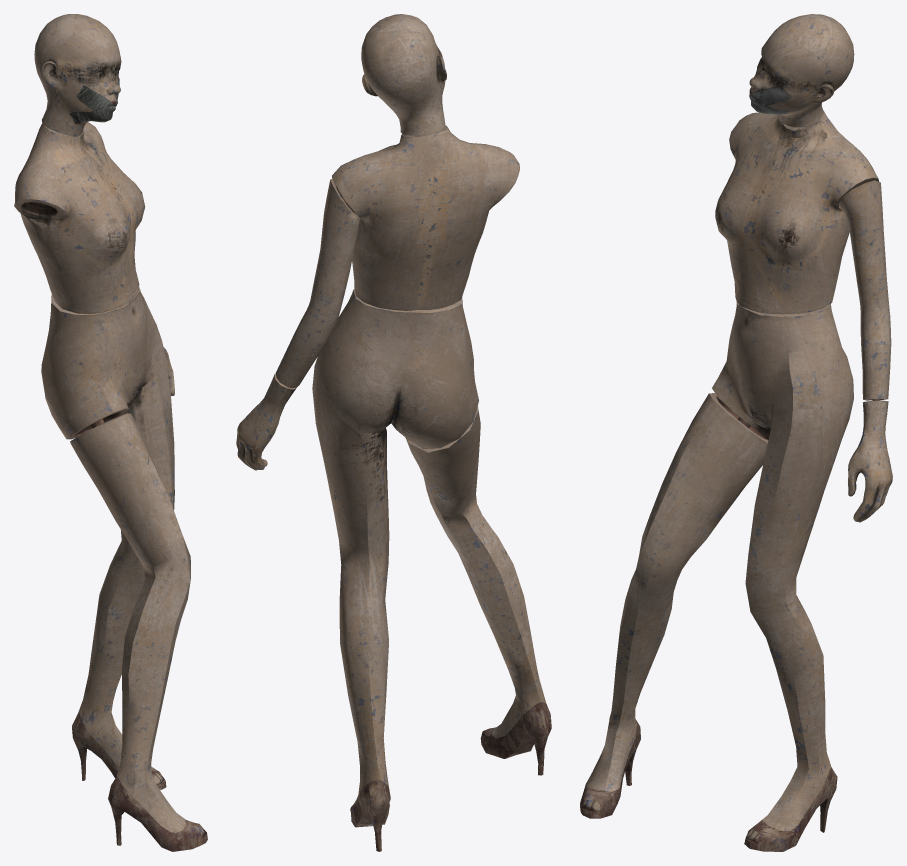
Rendered from Woman_2.fbx.
The picture shows the model from 3 angles, left to right: view 1: azimuth 30°, elevation 25°; view 2: azimuth 150°, elevation 25°; view 3: azimuth 270°, elevation 25°; orthographic projection. The views are drawn at different scales.
Parts seen in each view (by area): view 1: Object_2.005; view 2: Object_2.005; view 3: Object_2.005.
Boxes of the visible parts, x1,y1,x2,y2 form: Object_2.005: (14, 14, 207, 851); Object_2.005: (236, 14, 551, 851); Object_2.005: (580, 14, 892, 851).
Size of the model in its own units: 70.22 by 248 by 87.29.
Materials: 1 (1 with a texture image).
